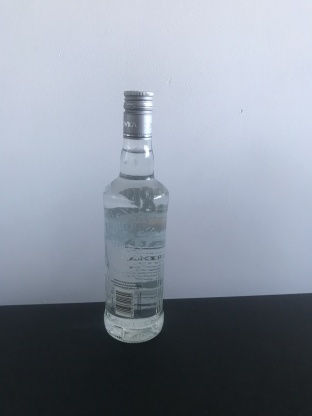nakretka: (121, 88, 154, 140)
